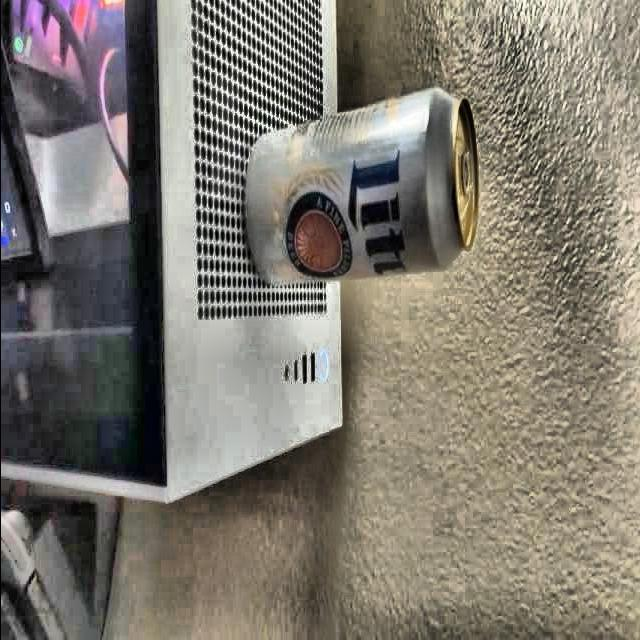Aluminum Can: (229, 79, 490, 298)
